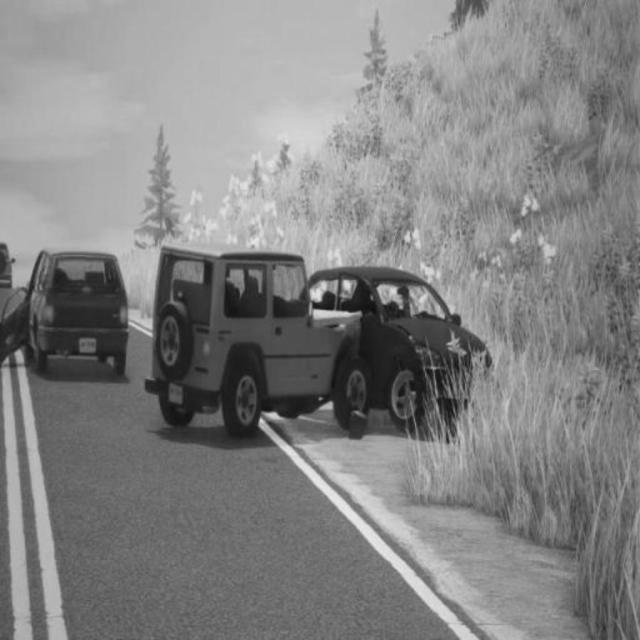accident: (152, 239, 496, 427)
vehicle: (25, 249, 131, 375)
